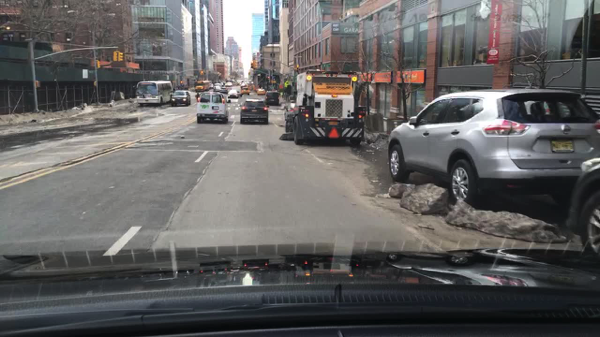bus: (131, 80, 174, 107), (194, 81, 213, 93)
car: (387, 89, 598, 208), (566, 152, 599, 255), (194, 93, 231, 125), (239, 98, 271, 126), (169, 89, 192, 107), (266, 90, 282, 107), (227, 89, 240, 98), (255, 88, 267, 96), (234, 86, 242, 96), (225, 80, 239, 85), (242, 88, 250, 96), (224, 82, 233, 88), (220, 87, 229, 93), (237, 84, 247, 89), (213, 82, 221, 87), (213, 87, 220, 92), (239, 80, 247, 84)
traffic light: (35, 79, 42, 89), (95, 61, 101, 69), (113, 52, 118, 61), (120, 53, 123, 62), (295, 66, 300, 71), (250, 61, 253, 69), (200, 71, 204, 75), (255, 61, 257, 69)
traffic sign: (284, 81, 293, 88), (321, 64, 332, 67)
truck: (276, 70, 368, 149)
